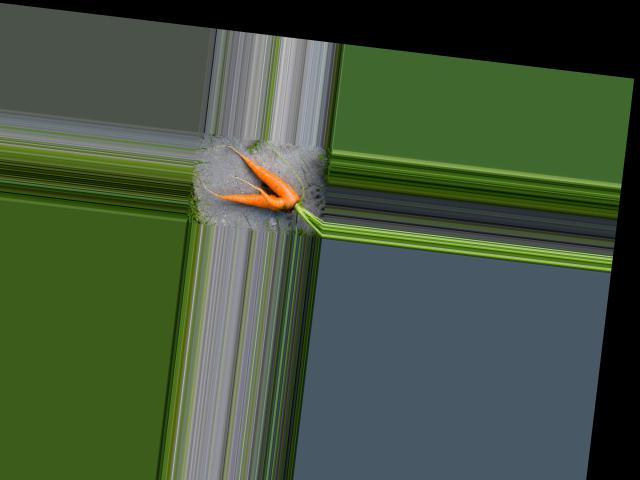carrot: (201, 177, 291, 220)
